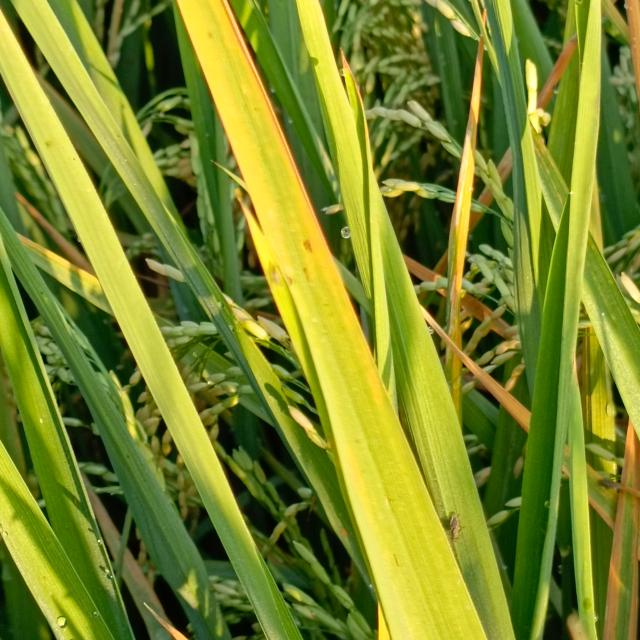Leaf scald: (441, 509, 472, 546)
insects: (297, 232, 324, 272)
